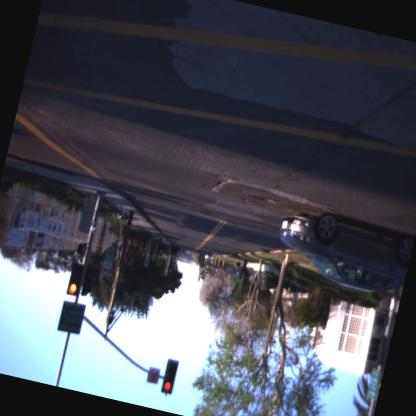trafficlight: (158, 353, 184, 399), (64, 258, 88, 300)
